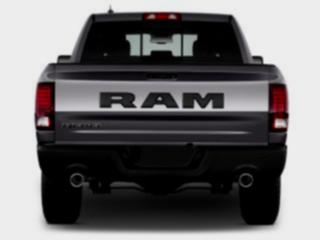ram: (88, 86, 232, 114)
